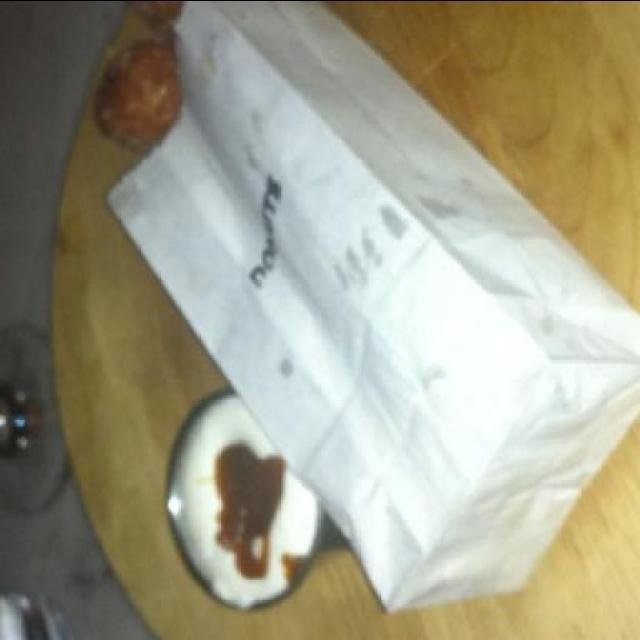Donuts: (89, 30, 202, 138)
